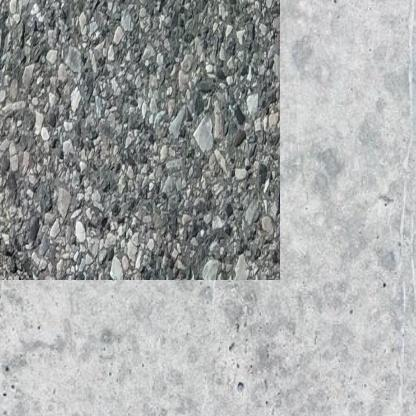Cracks: (0, 208, 34, 259), (69, 252, 105, 259), (180, 254, 209, 259)
